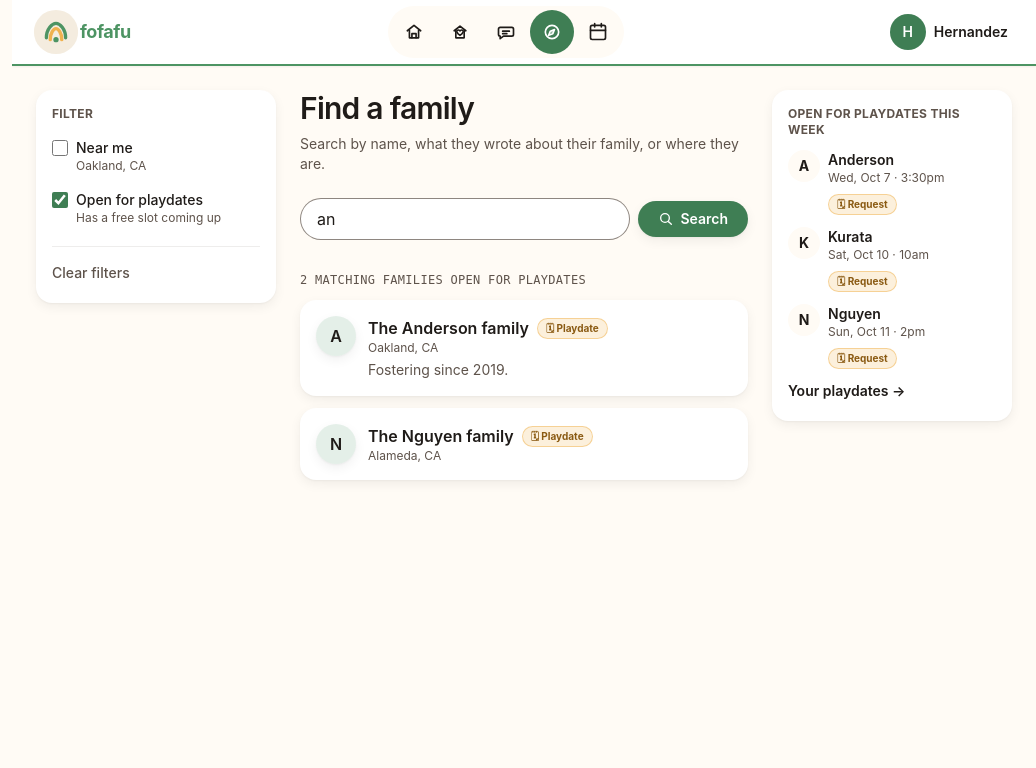
SearchPage filters with a query › keeps the filters when the query is cleared
The width and height of the screenshot is (1036, 768).
Expected: the link "The Anderson family" is shown, [368,318,529,338]
Clear the field named "Search" at (465, 219), box [300,198,630,240]
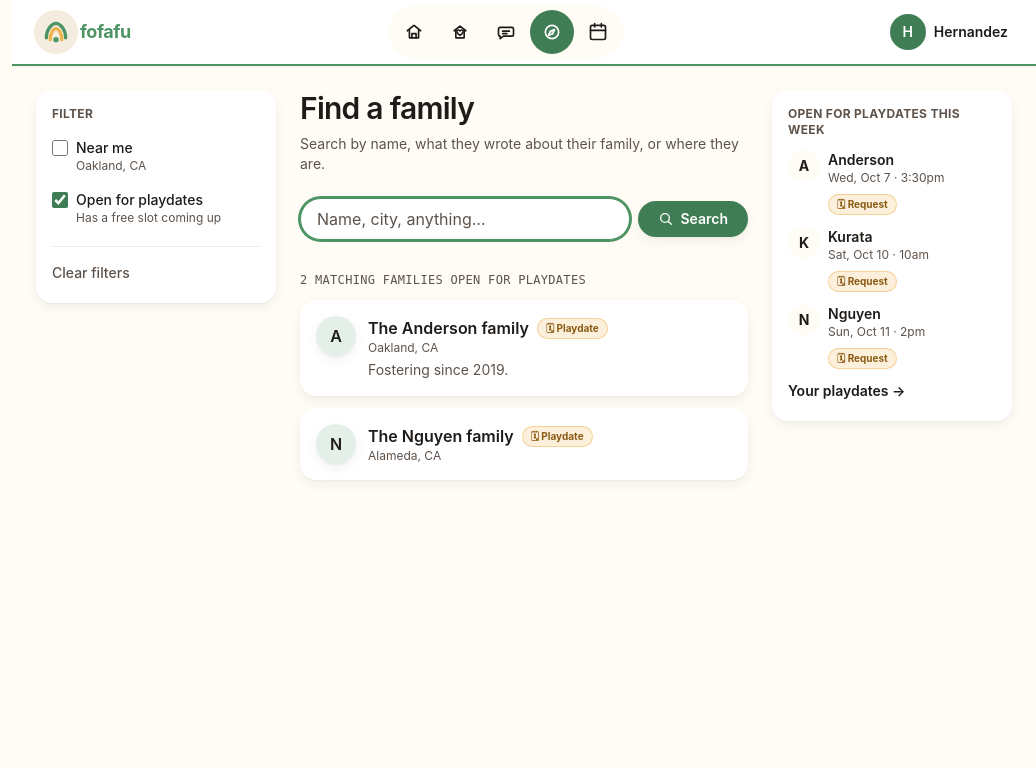
Click the button "Search" at (693, 219), box [638,201,748,237]
(page scrolled)
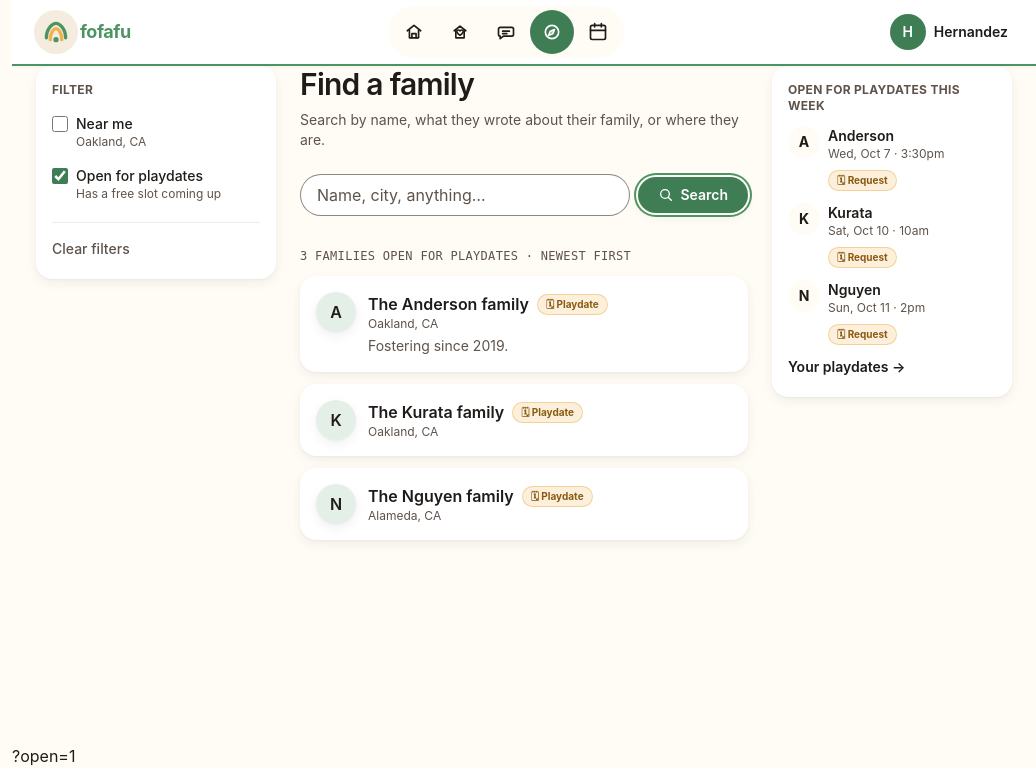
Expected: the message reads "3 families open for playdates", [300,249,518,263]
Expected: the text with test id "location-search" reads "?open=1", [12,746,76,766]
